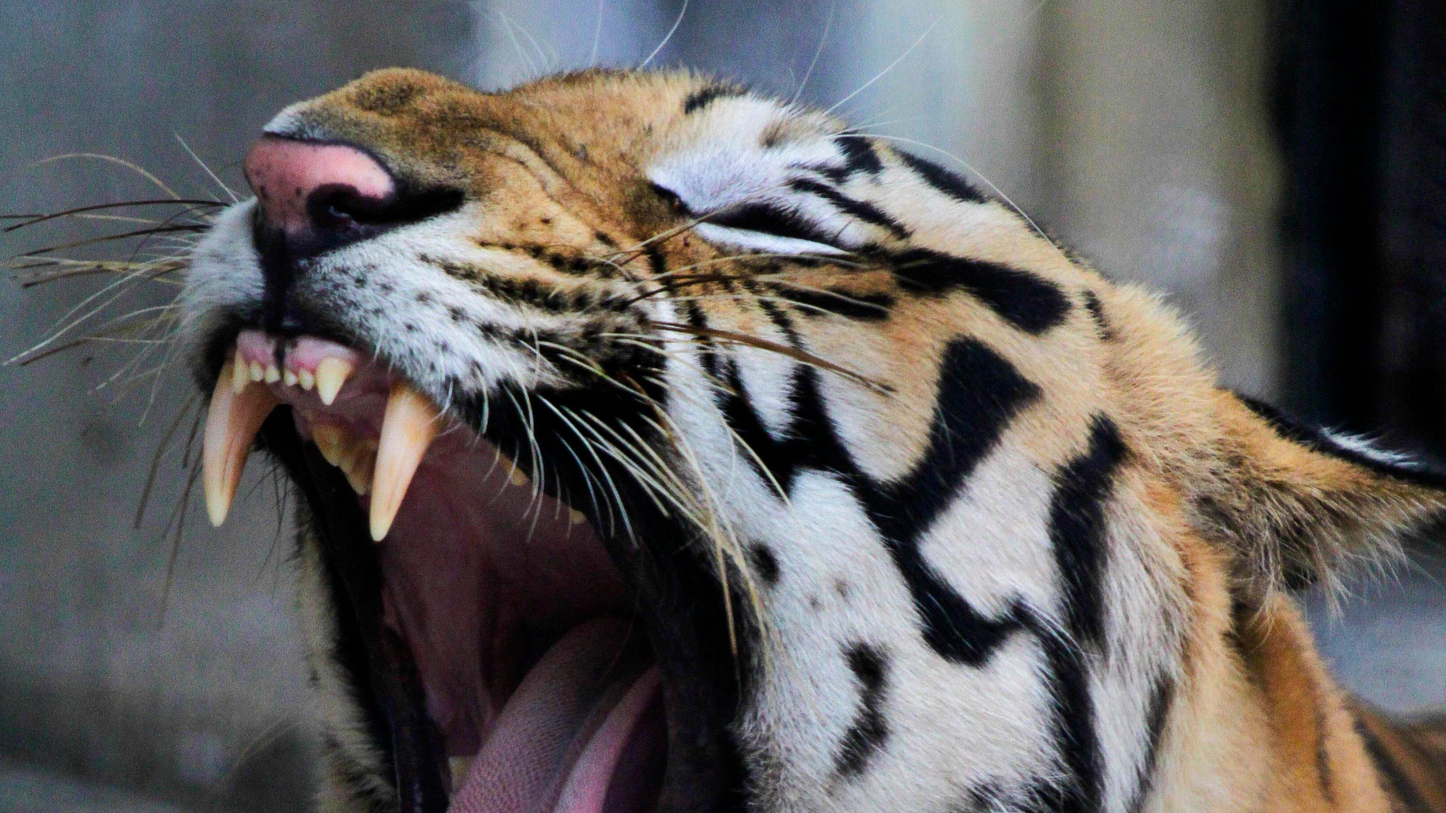Tiger: (0, 66, 1446, 813), (642, 0, 690, 63), (806, 65, 811, 75)
